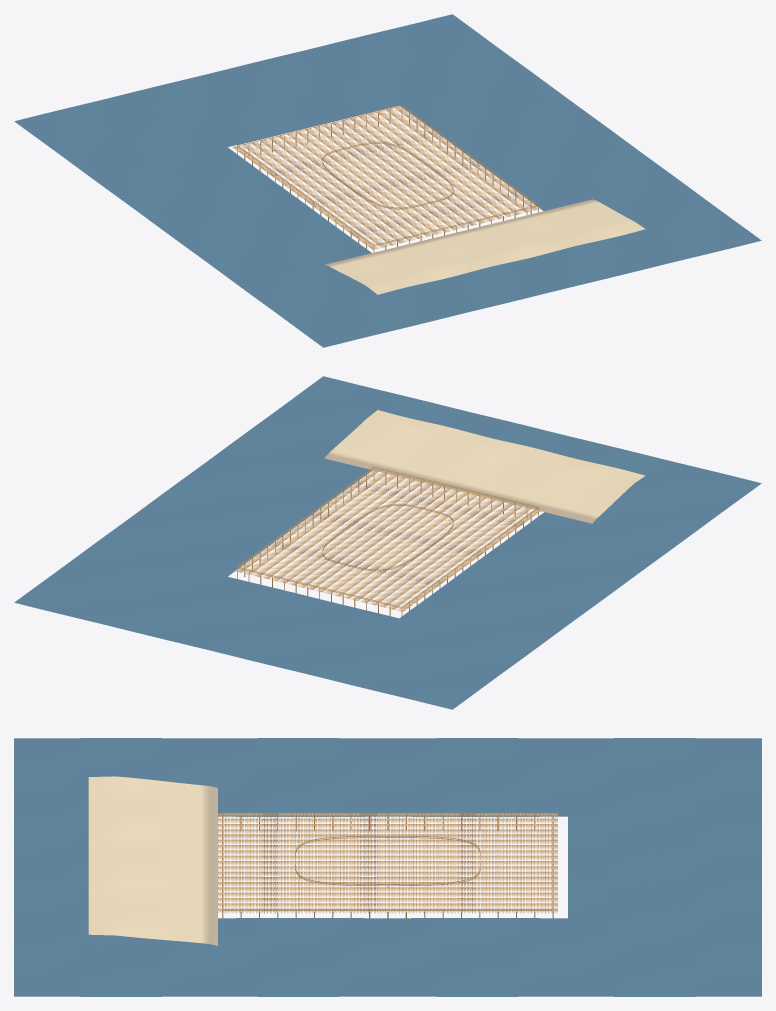
Rendered from env_lod1.glb.
3 views of the same model, one above another, from view 1: azimuth 30°, elevation 25°; view 2: azimuth 150°, elevation 25°; view 3: azimuth 270°, elevation 25° (orthographic). The views are drawn at different scales.
Visible parts, largest first — view 1: water, pier_deck, beach, pier_structure; view 2: water, pier_deck, beach, pier_structure; view 3: water, pier_deck, beach, pier_structure.
Boxes of the visible parts, left/top/right/bottom form: water: left=14, top=14, right=761, bottom=347; pier_deck: left=232, top=106, right=541, bottom=249; beach: left=324, top=199, right=645, bottom=294; pier_structure: left=237, top=105, right=538, bottom=252; water: left=14, top=376, right=761, bottom=709; pier_deck: left=235, top=469, right=542, bottom=611; beach: left=324, top=410, right=645, bottom=523; pier_structure: left=237, top=467, right=538, bottom=616; water: left=14, top=738, right=761, bottom=996; pier_deck: left=218, top=813, right=557, bottom=913; beach: left=88, top=776, right=217, bottom=945; pier_structure: left=222, top=811, right=553, bottom=918.
Bounding box in the file's own units: 180 × 7.93 × 220.
